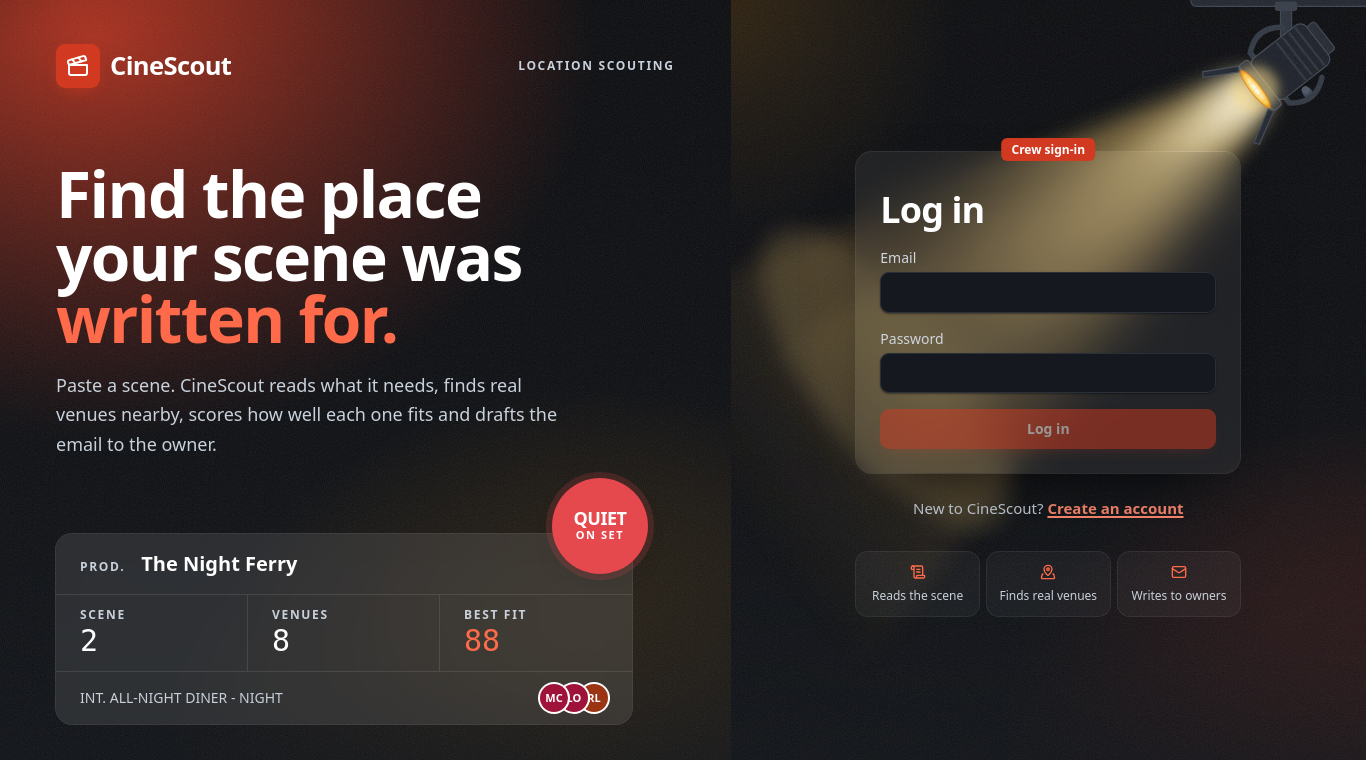
Test: a scene's locations › explain a failed scouting run as the server does
The image size is (1366, 760).
Type "ada@example.com" into the field labelled "Email".
click(1048, 293); type("ada@example.com")  # box 880,272 -> 1216,313
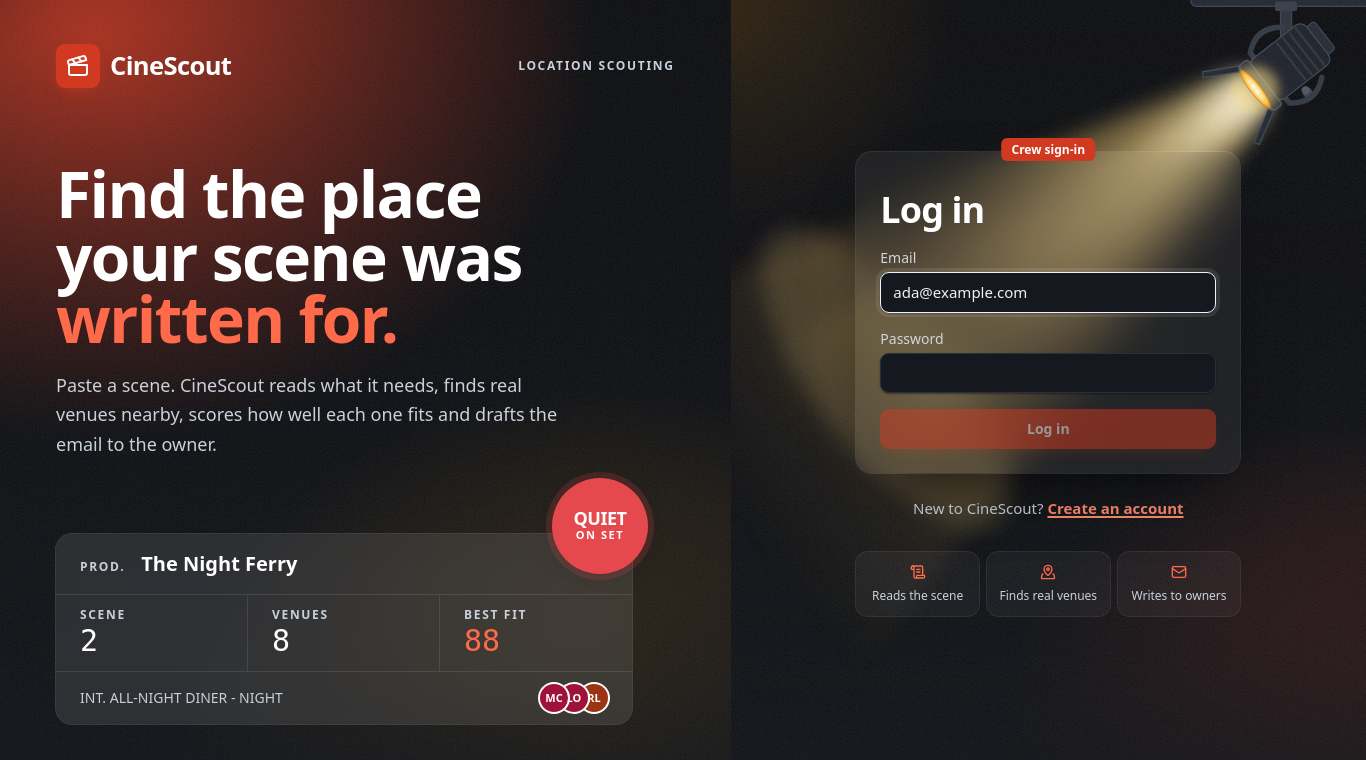
Type "a-long-password" into the password field labelled "Password".
click(1048, 373); type("a-long-password")  # box 880,353 -> 1216,393
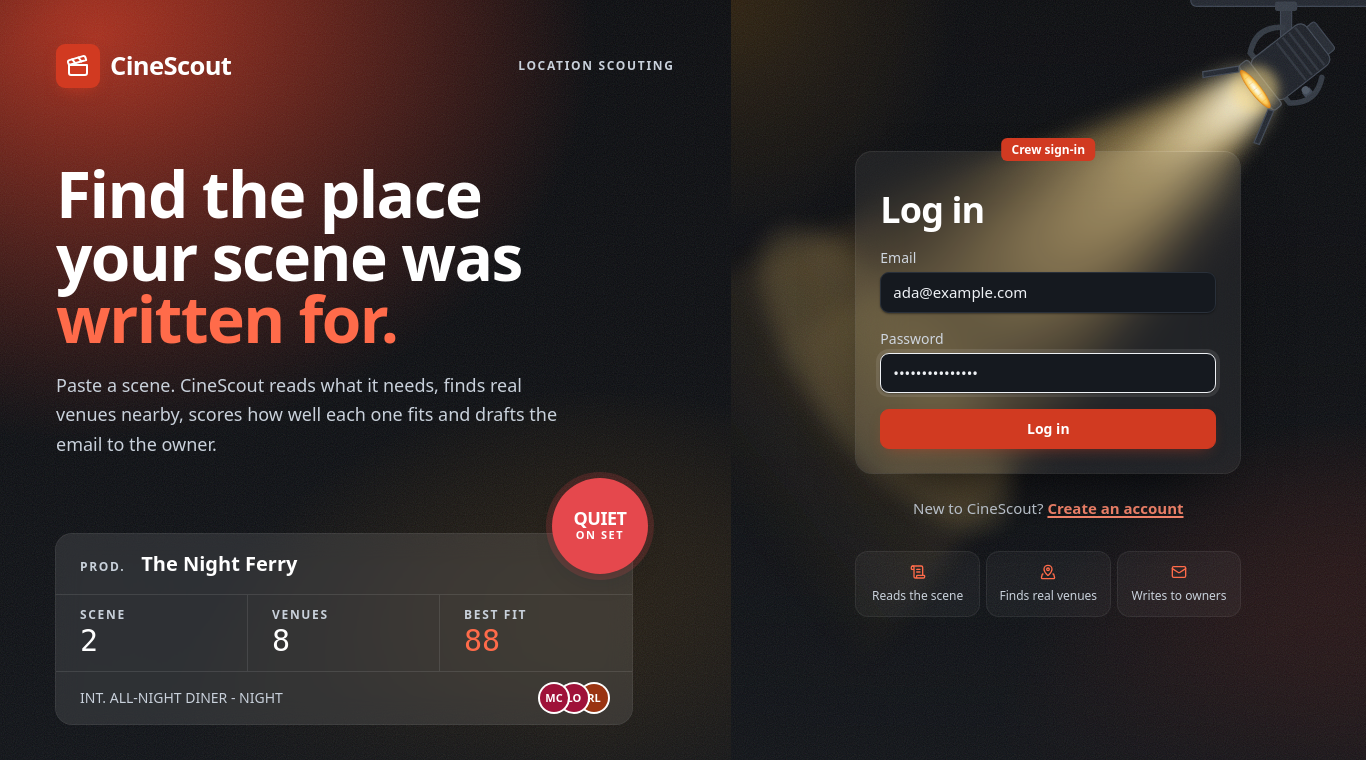
Click the button "Log in".
click(1048, 429)  # box 880,409 -> 1216,449
(page scrolled)
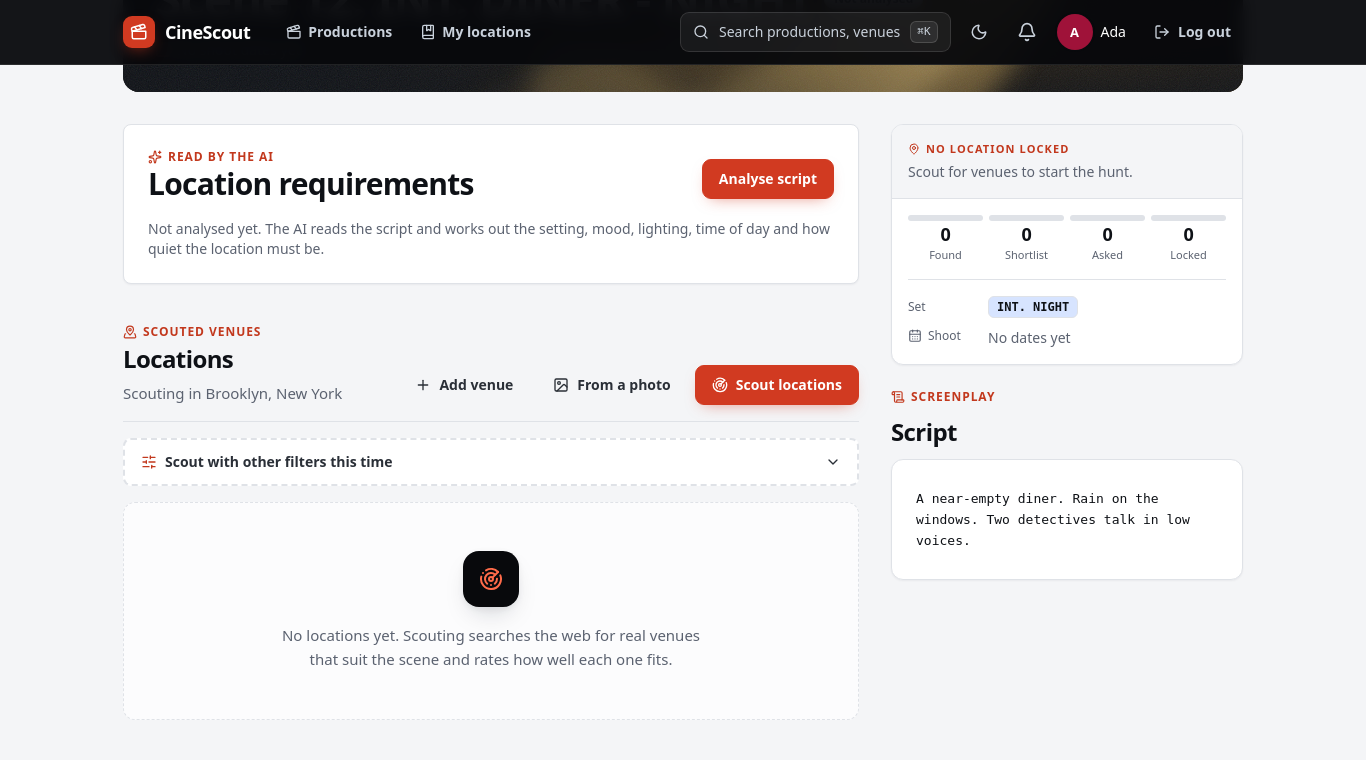
Click the button "Scout locations".
click(777, 384)  # box 695,364 -> 859,404
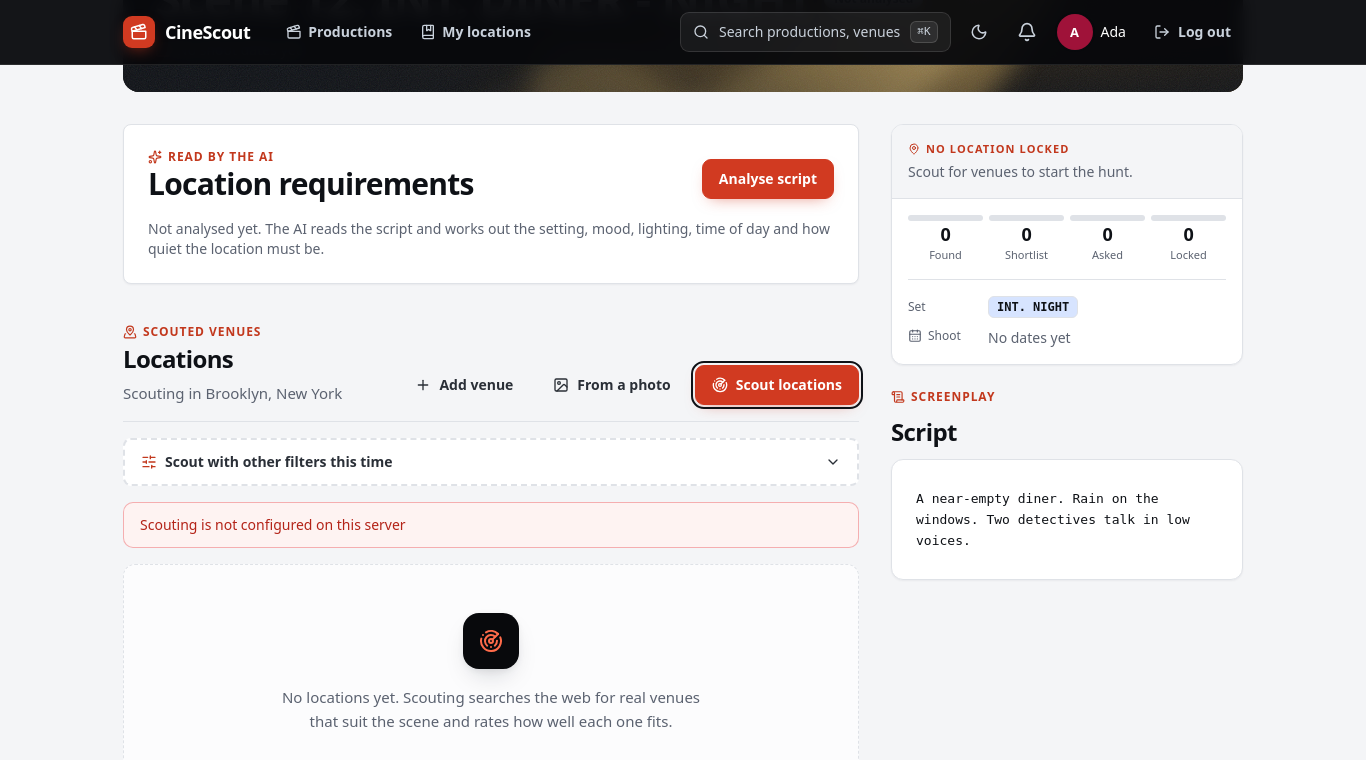
Check: the message reads "Scouting is not configured on this server", box 140,514 -> 406,534
